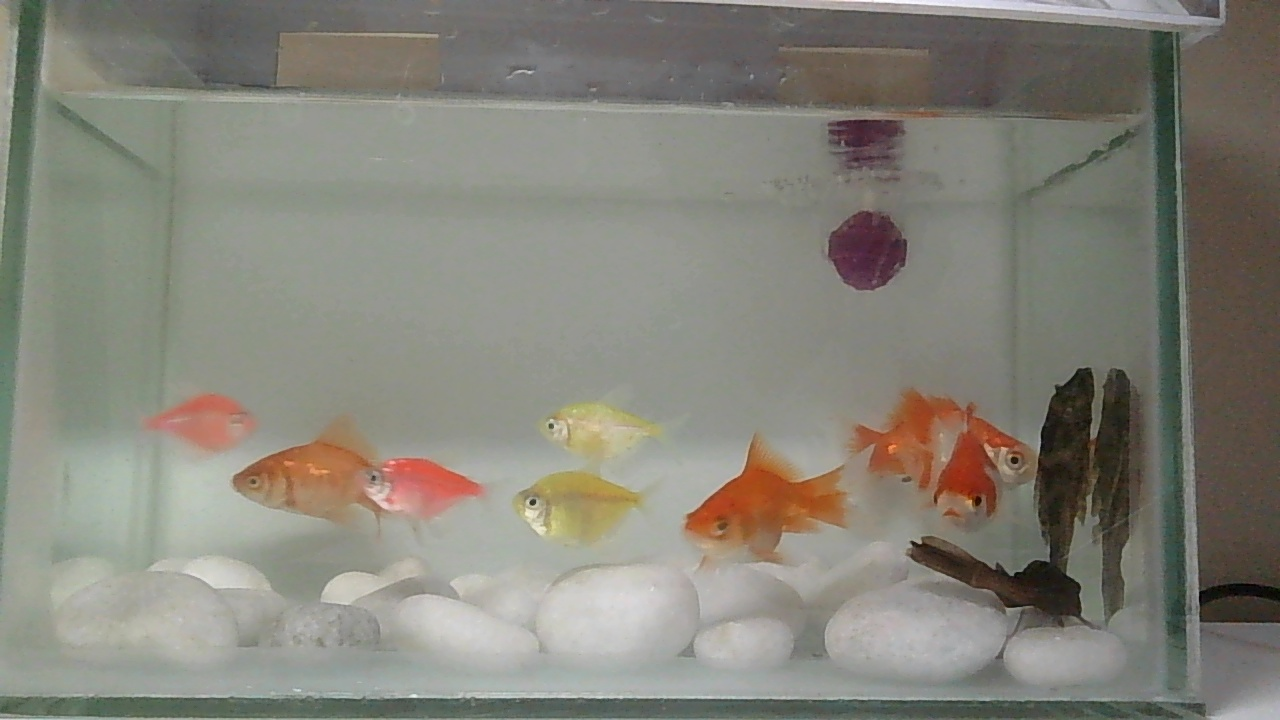fish: (680, 422, 929, 567), (817, 386, 1027, 548), (676, 428, 854, 563), (511, 449, 719, 563), (270, 432, 486, 529), (511, 464, 649, 555), (360, 452, 491, 528), (136, 386, 259, 457), (820, 205, 910, 295)
